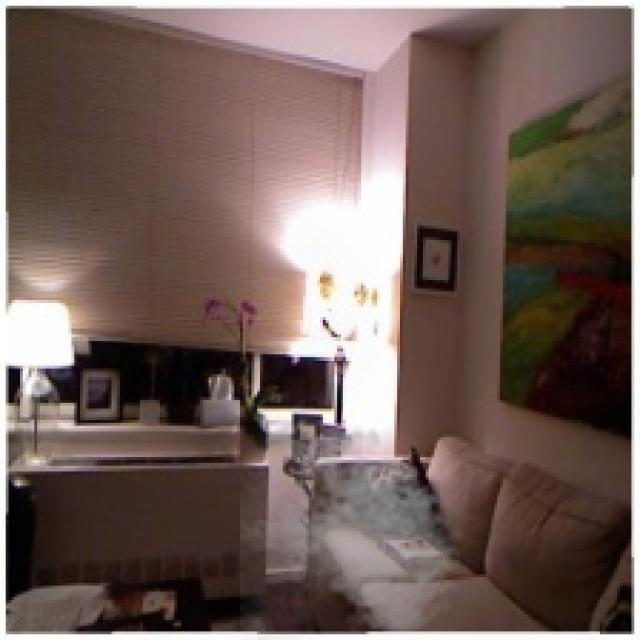Smoke: (239, 414, 472, 637)
